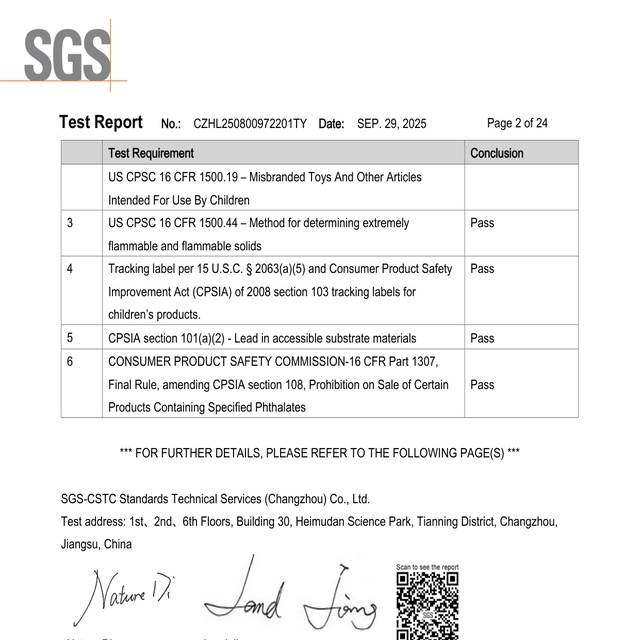sgs: (24, 29, 112, 82)
